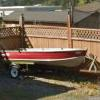Boat: (2, 38, 88, 76)
